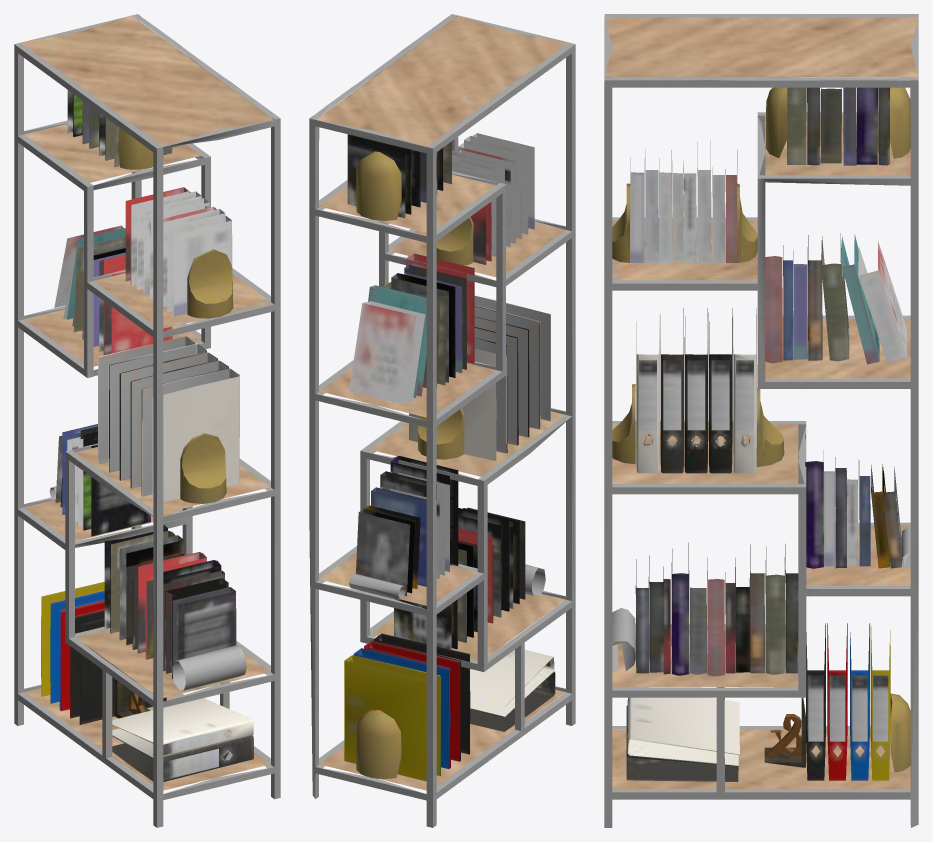
Rendered from Bookshelf0004.obj.
3 renders of one model, left to right at view 1: azimuth 30°, elevation 25°; view 2: azimuth 150°, elevation 25°; view 3: azimuth 270°, elevation 25°, orthographic. The views are drawn at different scales.
Bounding box in the file's own units: 0.4 × 2.1 × 0.8.
1 material, 1 textured.
